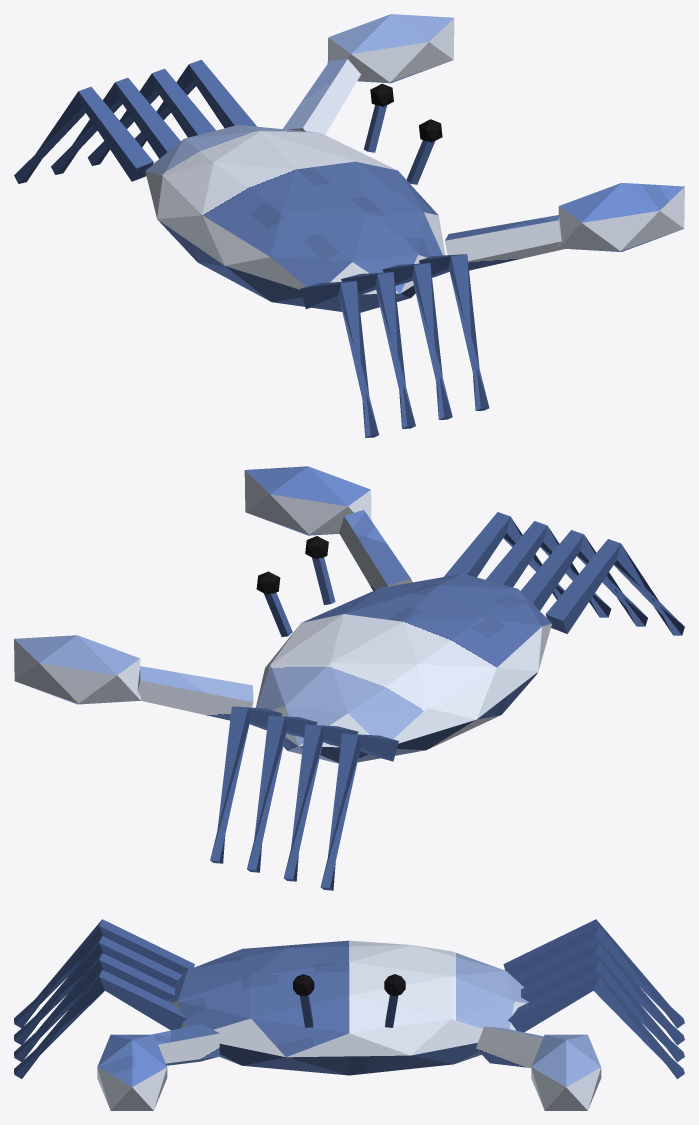
Rendered from soldier_crab.glb.
The picture shows the model from 3 angles, top to bottom: view 1: azimuth 30°, elevation 25°; view 2: azimuth 150°, elevation 25°; view 3: azimuth 270°, elevation 25°; orthographic projection. The views are drawn at different scales.
Visible parts, largest first — view 1: fish_soldier_crab; view 2: fish_soldier_crab; view 3: fish_soldier_crab.
Boxes of the visible parts, x1,y1,x2,y2 form: fish_soldier_crab: (14,14,684,437); fish_soldier_crab: (14,466,684,890); fish_soldier_crab: (14,919,684,1110).
Size of the model in its own units: 0.7228 by 0.2887 by 1.17.
3 materials, 1 textured.
